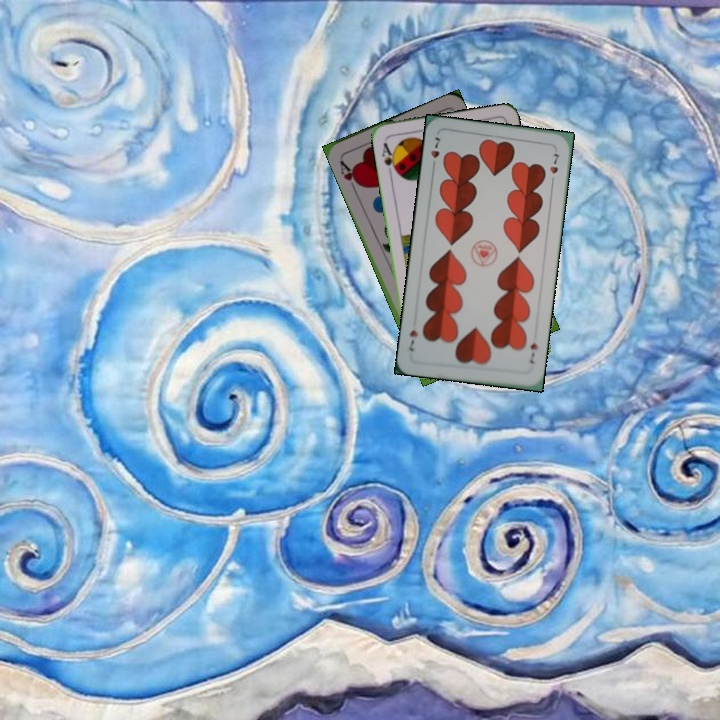H7: (427, 133, 443, 172), (526, 339, 540, 367)
HA: (335, 154, 364, 193)
SA: (377, 139, 400, 177)
